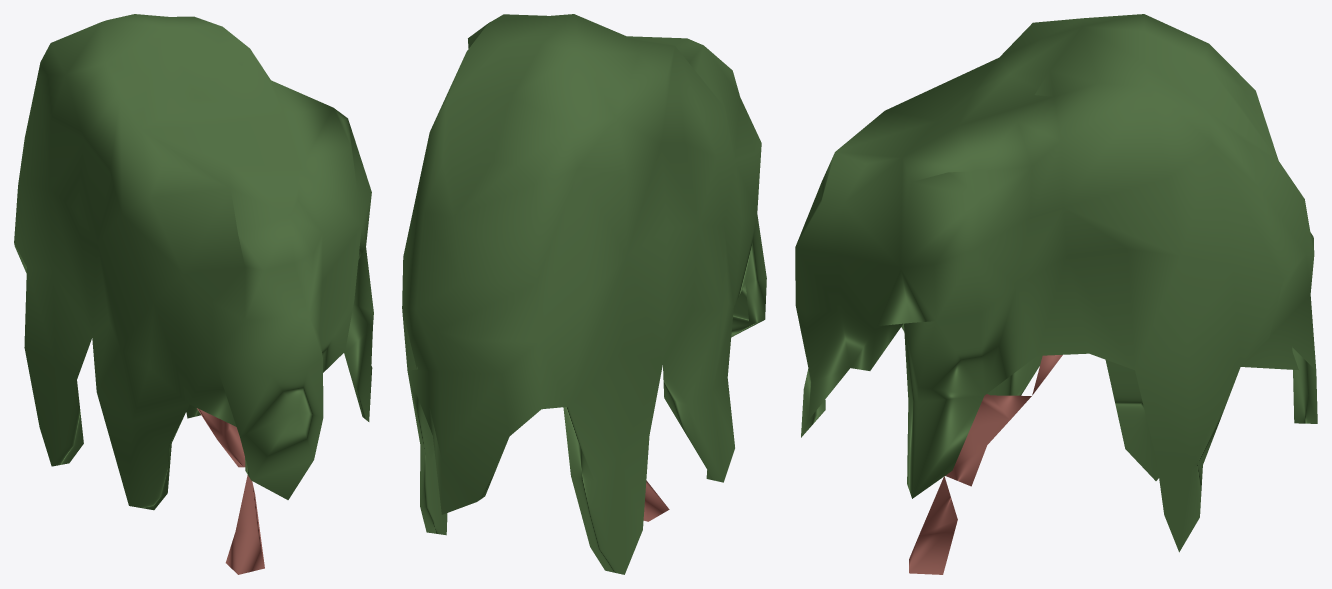
Rendered from Willow_1_lod.glb.
3 views of the same model, side by side, from view 1: azimuth 30°, elevation 25°; view 2: azimuth 150°, elevation 25°; view 3: azimuth 270°, elevation 25° (orthographic). The views are drawn at different scales.
Parts seen in each view (by area): view 1: Willow_1; view 2: Willow_1; view 3: Willow_1.
Part boxes in pixels (x1=…): Willow_1: x1=14, y1=14, x2=373, y2=574; Willow_1: x1=402, y1=14, x2=766, y2=574; Willow_1: x1=795, y1=14, x2=1317, y2=574.
Bounding box in the file's own units: 145 × 285 × 252.
